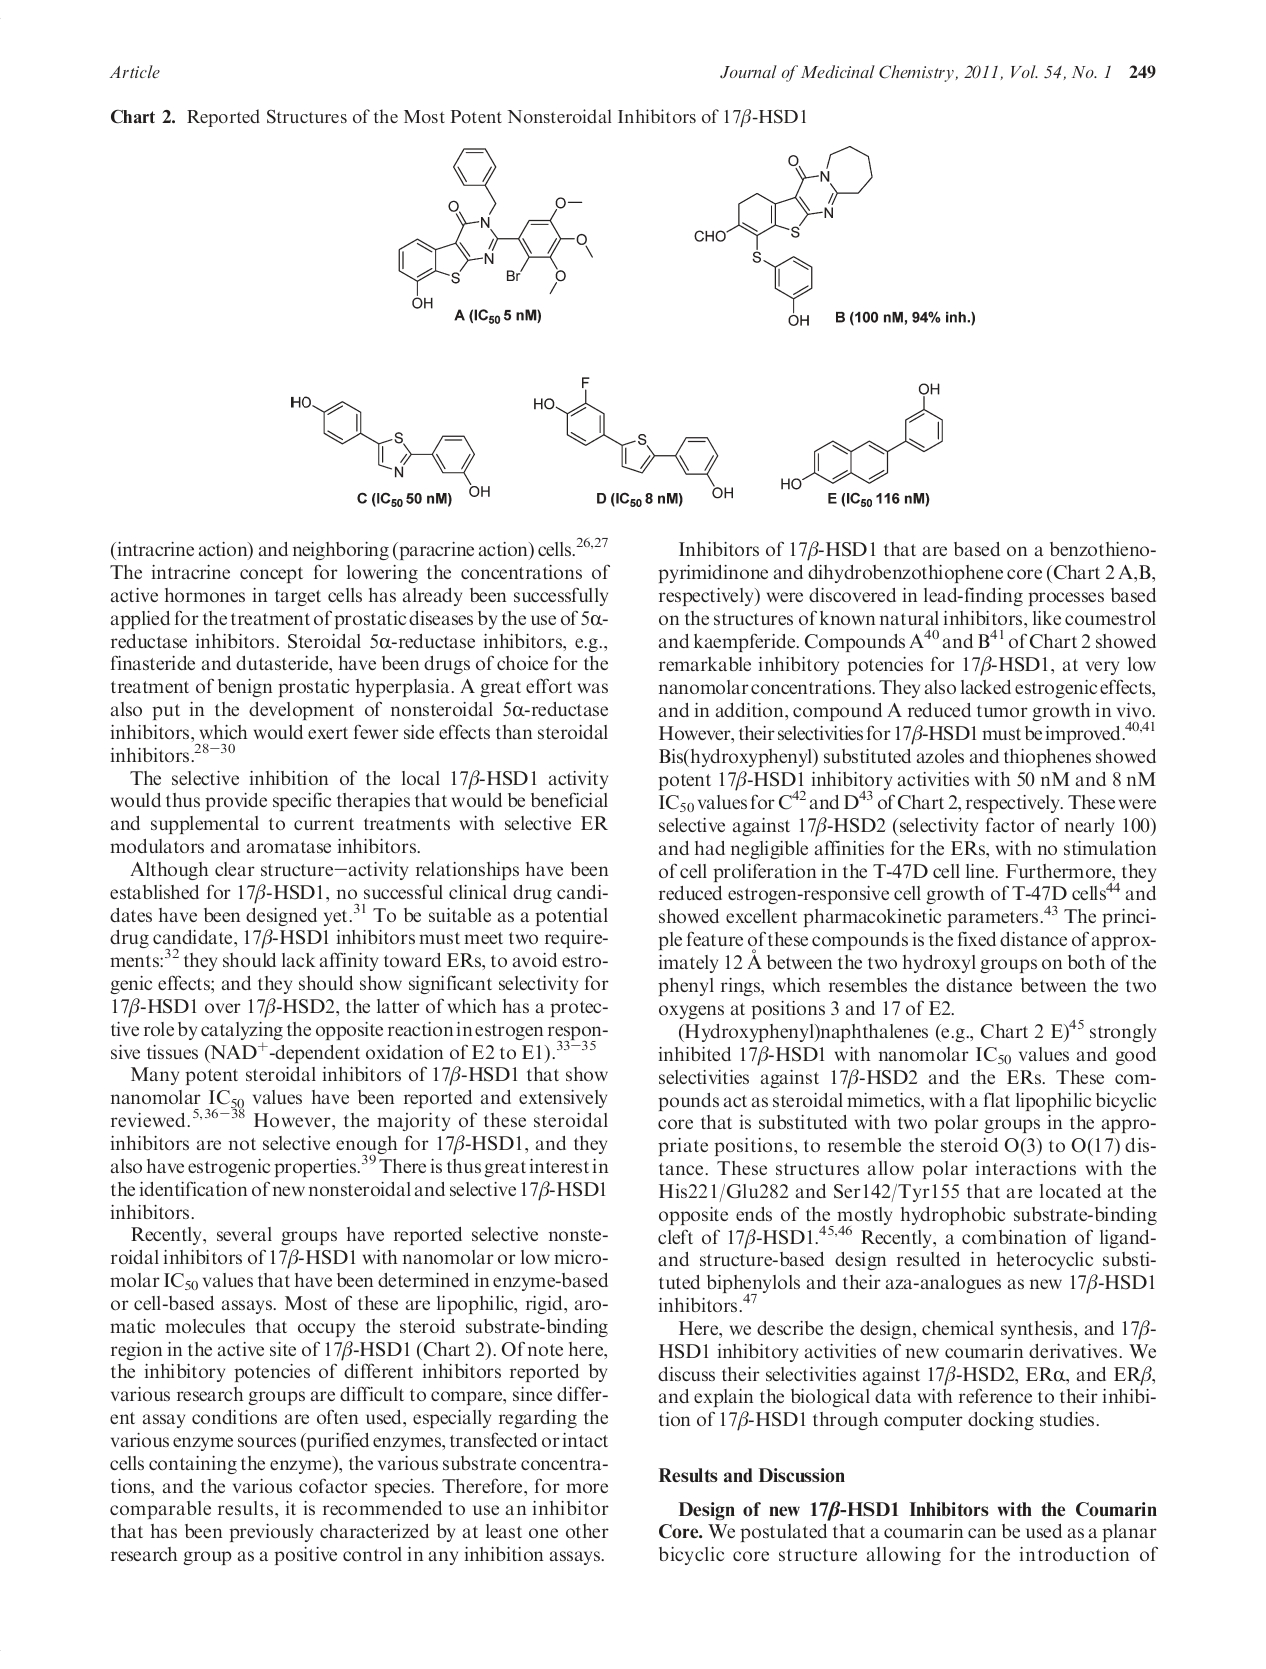exist_molecular: (392, 144, 598, 310), (693, 144, 876, 330), (531, 374, 735, 500), (289, 391, 495, 497), (777, 380, 948, 492)
